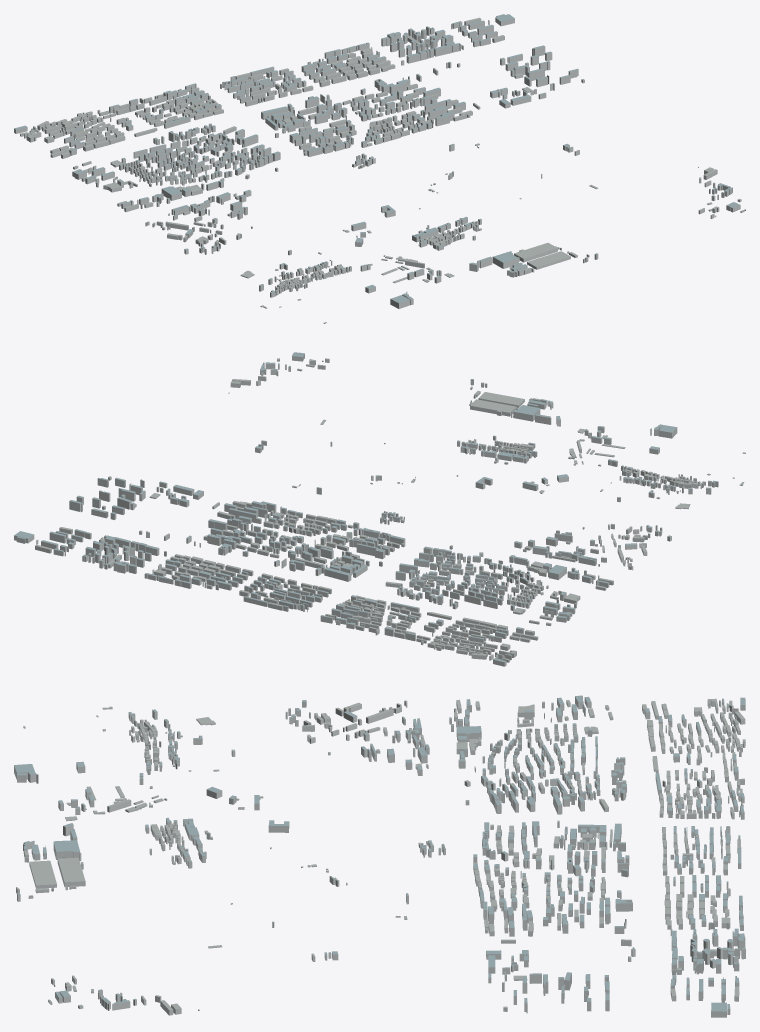
Rendered from far.glb.
The picture shows the model from 3 angles, top to bottom: view 1: azimuth 30°, elevation 25°; view 2: azimuth 150°, elevation 25°; view 3: azimuth 270°, elevation 25°; orthographic projection. The views are drawn at different scales.
Size of the model in its own units: 2141 by 35.6 by 2102.
